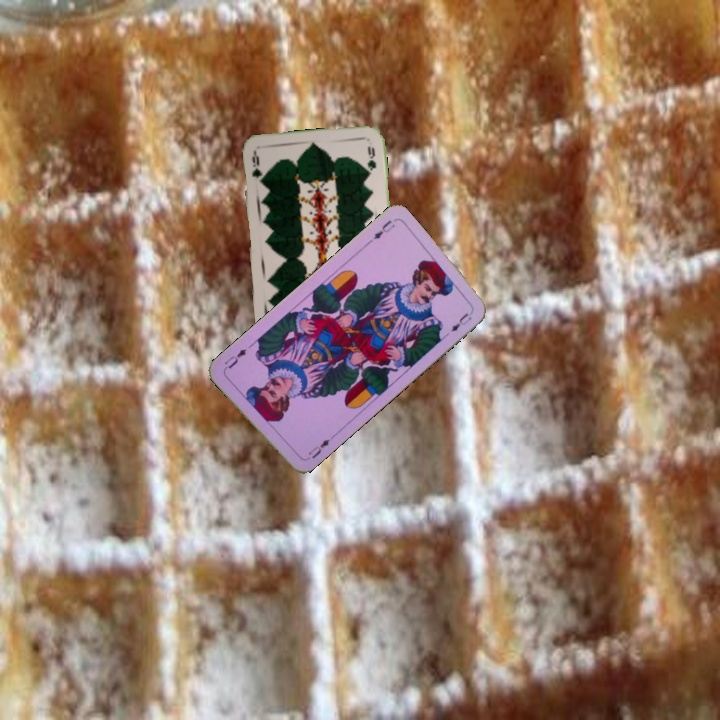EU: (301, 435, 332, 463), (369, 216, 397, 242)
G9: (248, 149, 263, 187)
